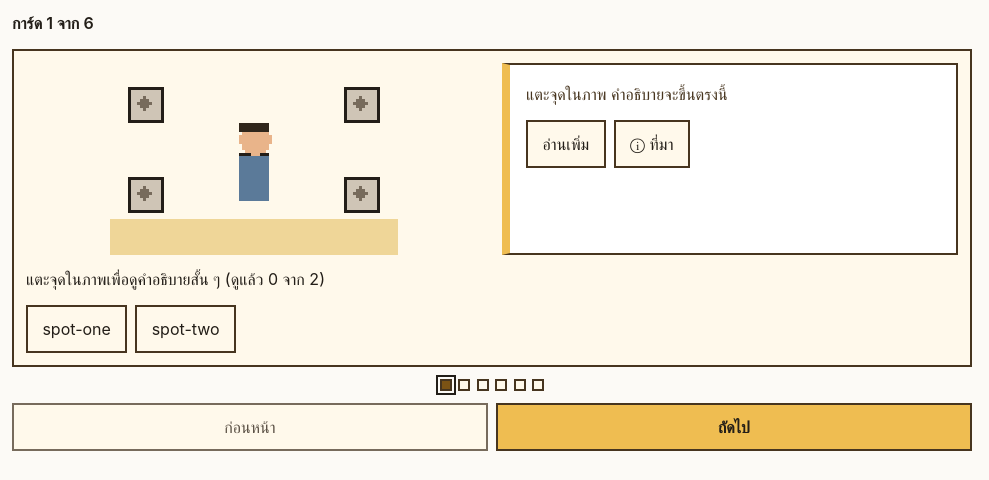
it: swaps the info window from one spot to the next without closing anything
What coordinates should you click on to do the following:
click the button "spot-one"
I would click on:
 (77, 329)
Its box is [26,305,127,353].
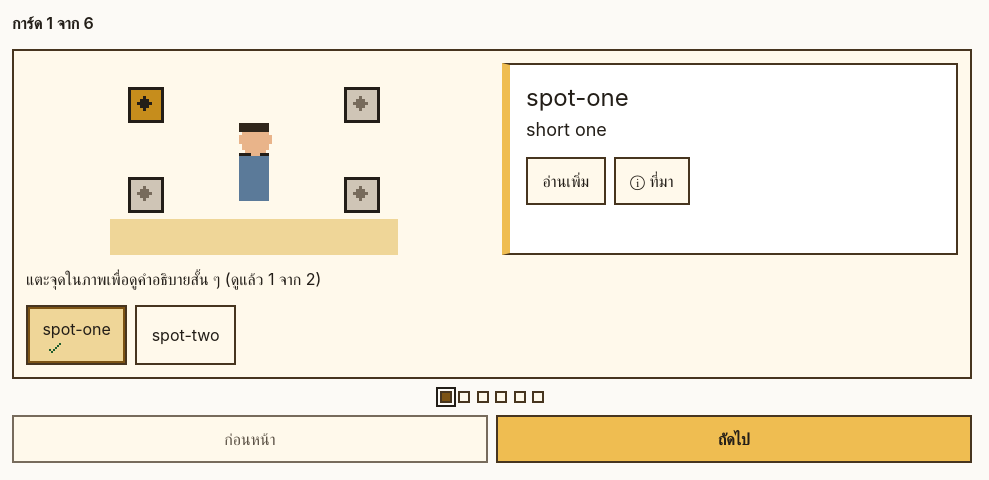
What coordinates should you click on to do the following:
click the button "spot-two"
I would click on:
 (186, 335)
Its box is [135,305,236,365].
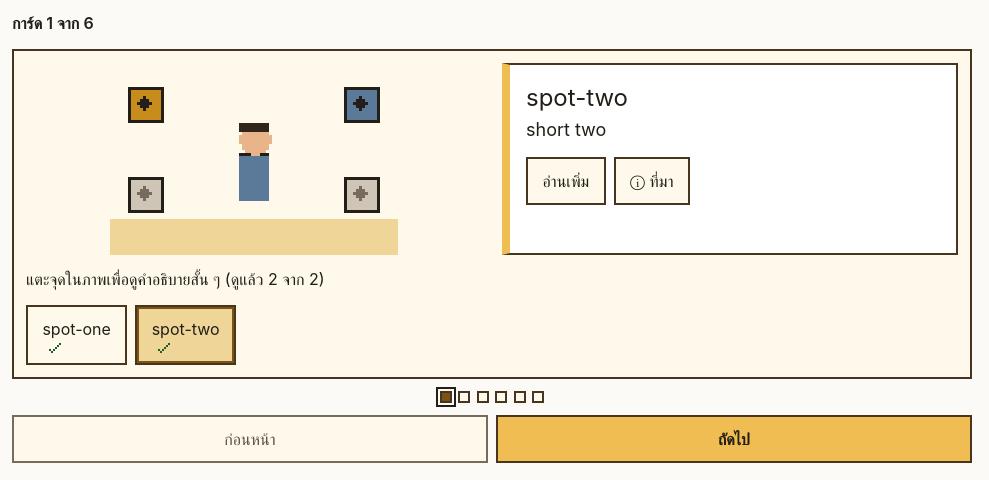
Now the element named "คำอธิบาย" shows "short two", box [526,119,606,140]
Now the text "คำอธิบาย" no longer shows "short one"
